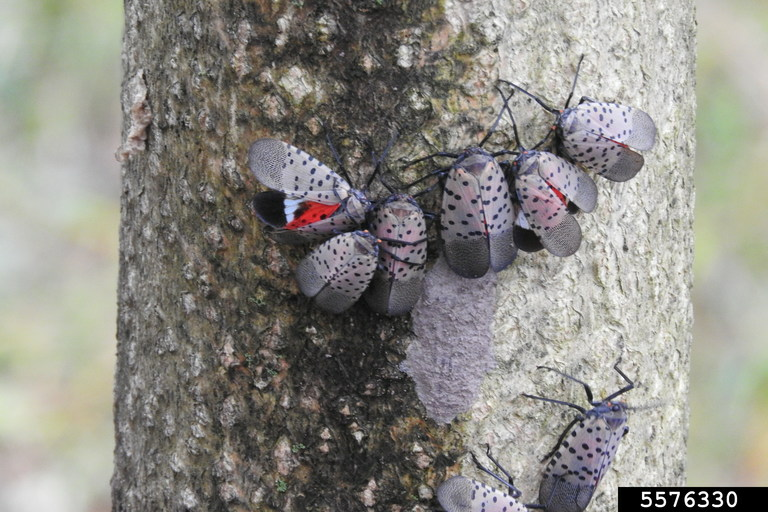adult: (528, 346, 640, 511), (537, 68, 680, 195), (219, 126, 367, 227), (495, 145, 604, 248), (442, 155, 535, 274), (377, 190, 440, 316), (299, 227, 376, 322)
